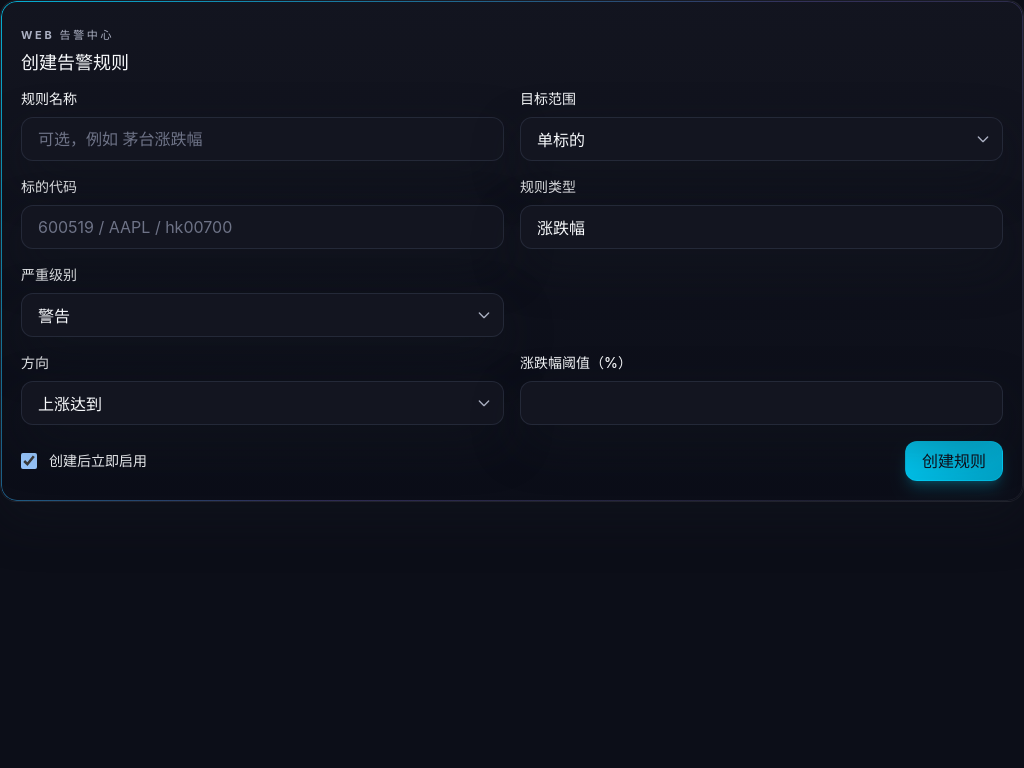
Scenario: AlertRuleForm › rejects invalid percentage -3
Type "600519" into the field labelled "标的代码". click: coordinates (262, 227)
box: [21,205,504,249]
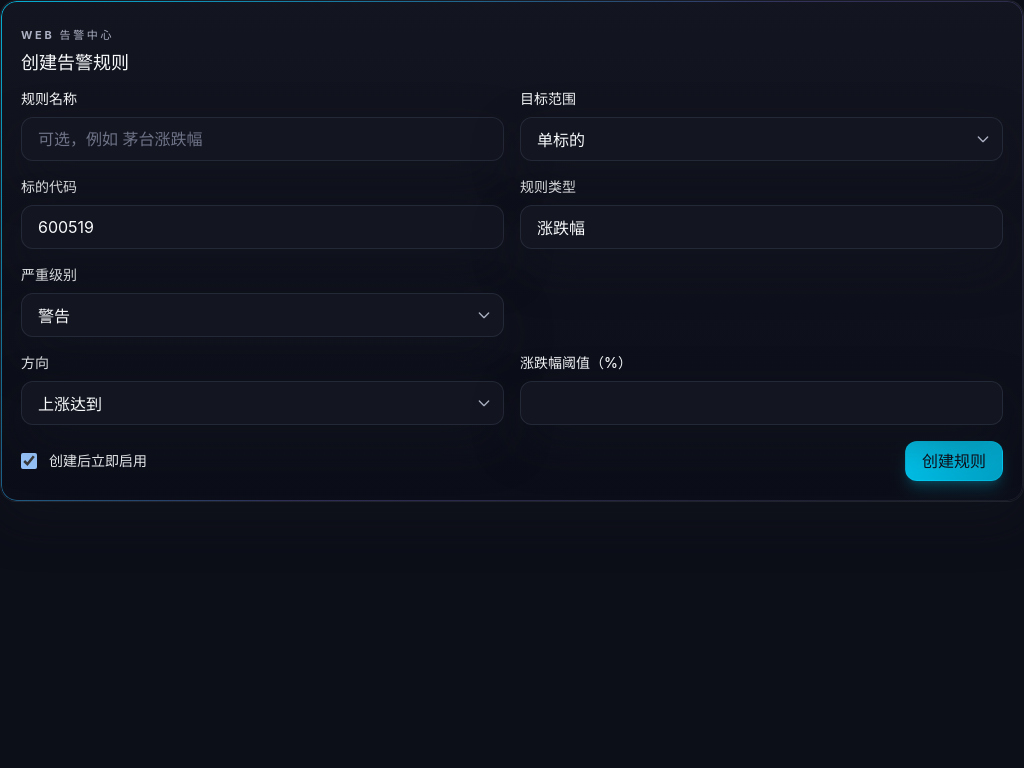
Type "-3" into the number field labelled "涨跌幅阈值（%）". click: coordinates (762, 403)
box: [520,381,1003,425]
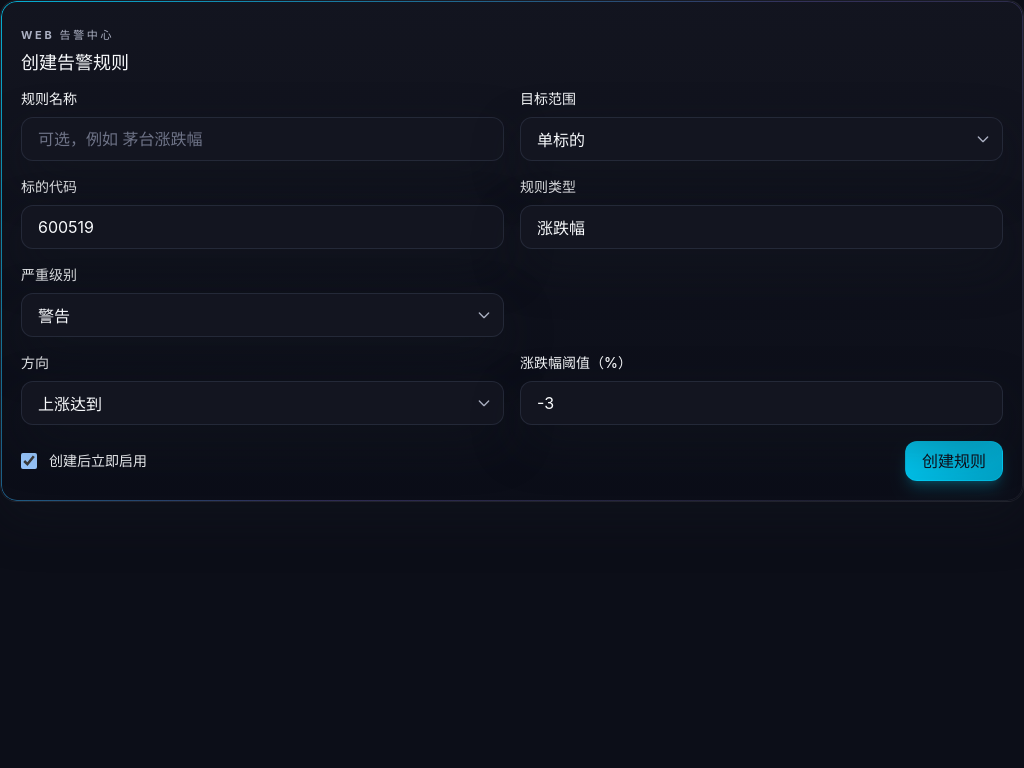
Click the button "创建规则". click: coordinates (954, 461)
box: [905,441,1003,481]
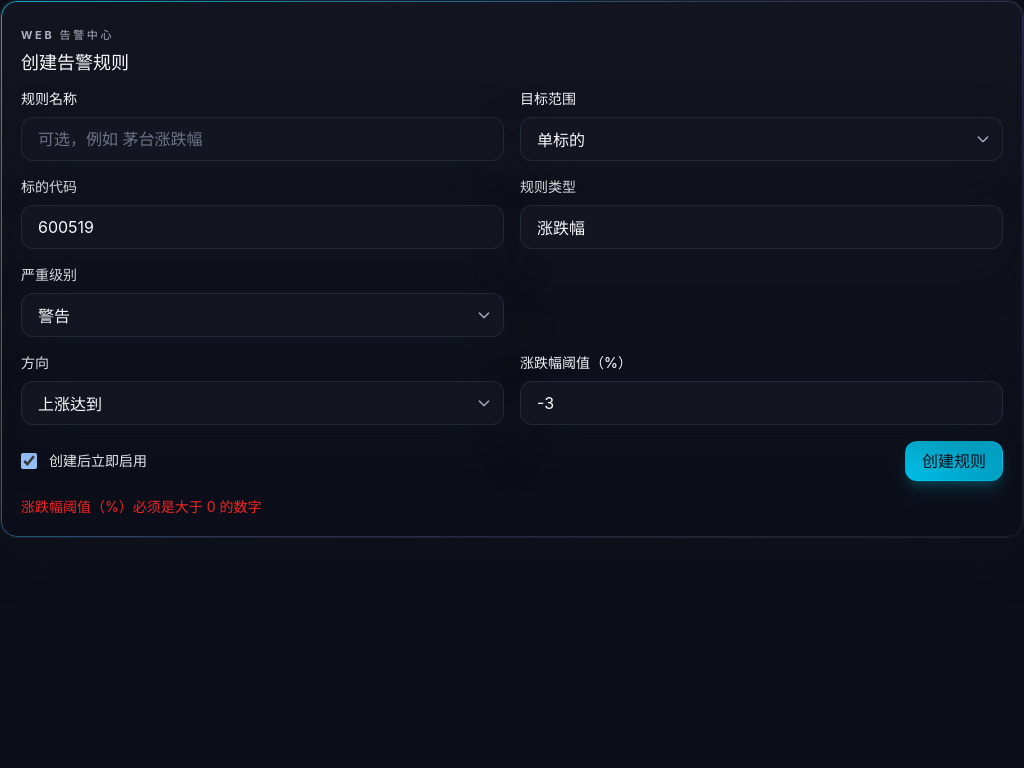
Check: the message reads "涨跌幅阈值（%）必须是大于 0 的数字", box [21,498,262,515]
